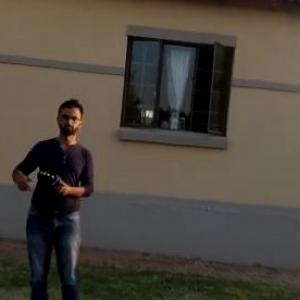follow: (2, 94, 107, 299)
